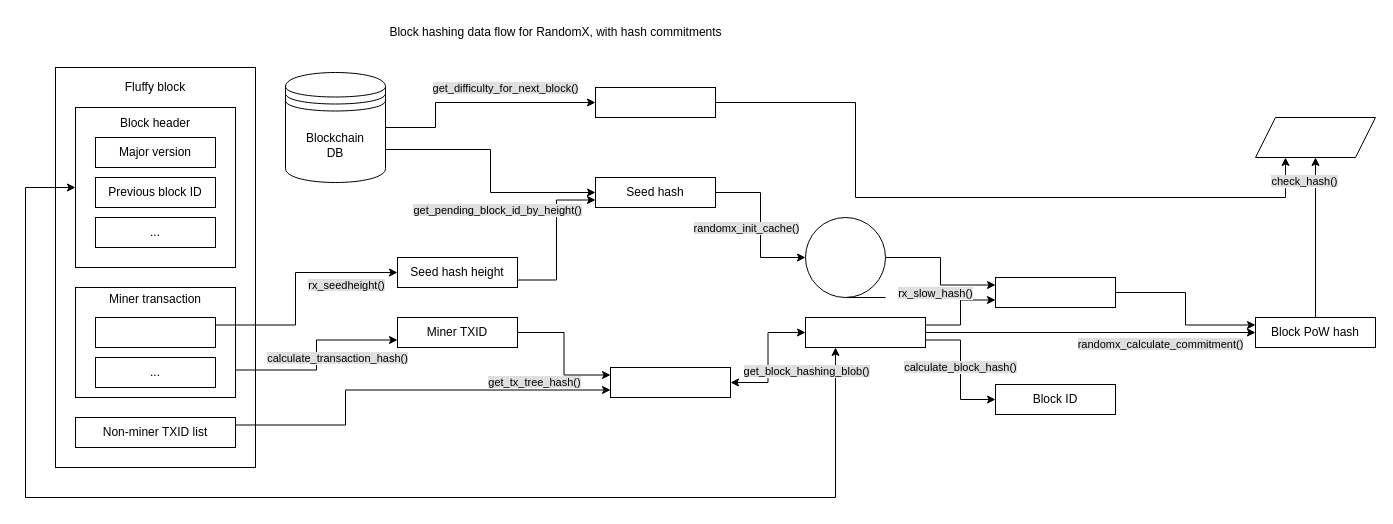
The diagram is 1393 pixels wide and 524 high, and some of its shapes have lost their labels. The shapes that lost their labels are listed below. From the top down, each one's centre as x and y in pixels, then its label:
At point 655,102: "Difficulty target".
At point 1315,137: "Block's PoW is valid?".
At point 845,257: "RandomX VM cache".
At point 1055,292: "Intermediate block PoW hash".
At point 155,332: "Block height".
At point 865,332: "Block hashing blob".
At point 670,382: "Block content hash".
